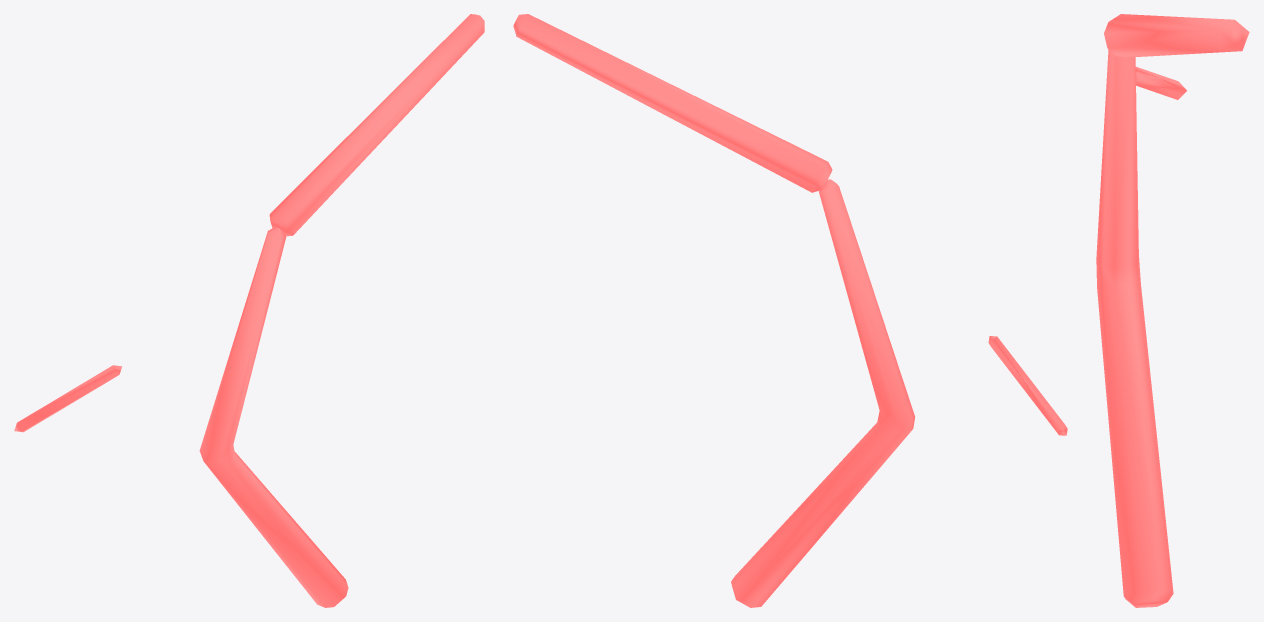
The model's file is Mascarada_MascaraNinguna_Neon.fbx.
3 renders of one model, left to right at view 1: azimuth 30°, elevation 25°; view 2: azimuth 150°, elevation 25°; view 3: azimuth 270°, elevation 25°, orthographic. The views are drawn at different scales.
Visible parts, largest first — view 1: Mascarada_MascaraNinguna_Neon; view 2: Mascarada_MascaraNinguna_Neon; view 3: Mascarada_MascaraNinguna_Neon.
Part boxes in pixels (x1,y1,x2,y2): Mascarada_MascaraNinguna_Neon: (14,14,484,607); Mascarada_MascaraNinguna_Neon: (513,14,1067,607); Mascarada_MascaraNinguna_Neon: (1096,14,1249,607).
Bounding box in the file's own units: 0.8081 × 0.8285 × 0.1638.
